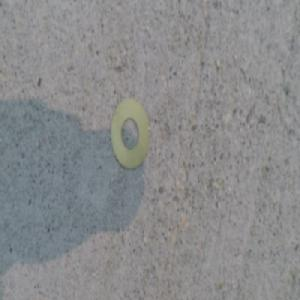Washer: (109, 93, 150, 168)
